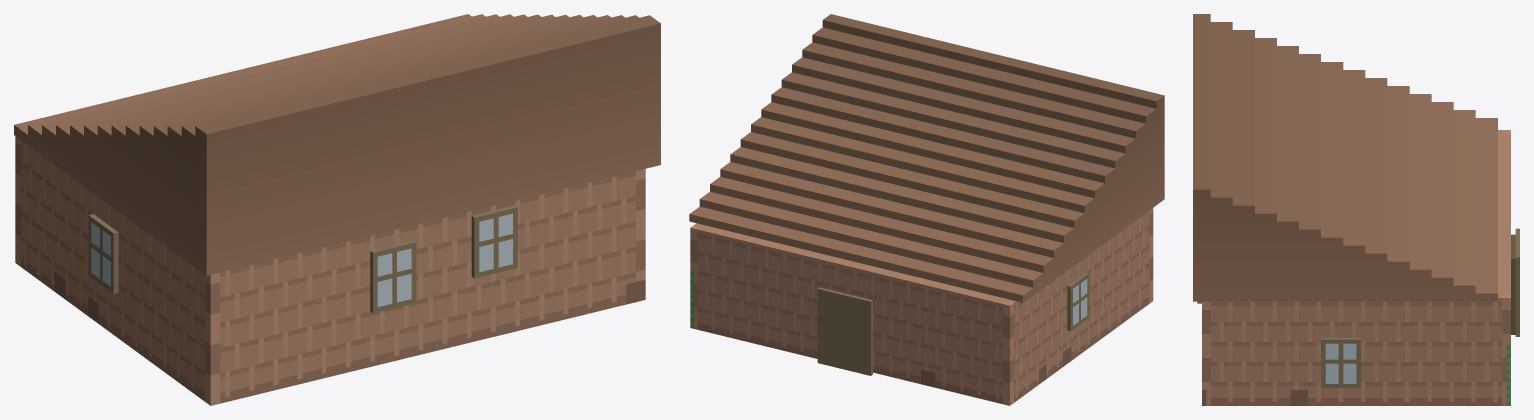
File: panaderia_02.glb
3 renders of one model, left to right at view 1: azimuth 30°, elevation 25°; view 2: azimuth 150°, elevation 25°; view 3: azimuth 270°, elevation 25°, orthographic. The views are drawn at different scales.
Parts seen in each view (by area): view 1: panaderia_02; view 2: panaderia_02; view 3: panaderia_02.
Boxes of the visible parts, x1,y1,x2,y2 form: panaderia_02: [14, 14, 660, 405]; panaderia_02: [689, 14, 1164, 405]; panaderia_02: [1193, 14, 1519, 405].
Size of the model in its own units: 9.4 by 5.5 by 7.4.
